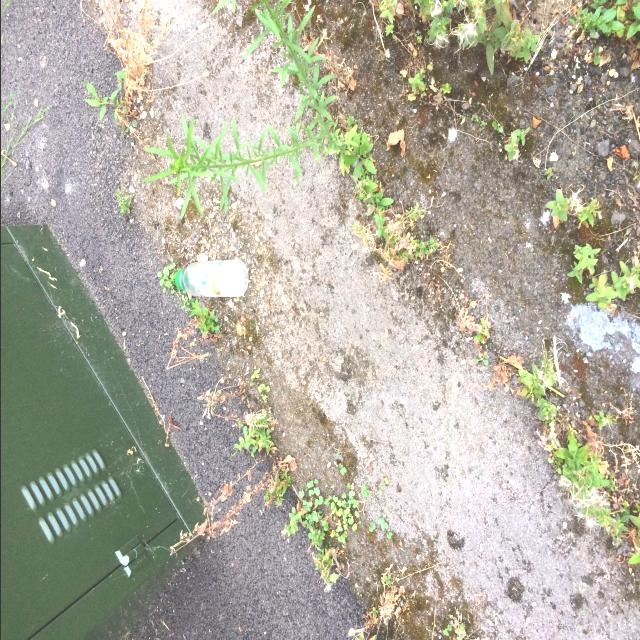Clear plastic bottle: (174, 260, 248, 297)
